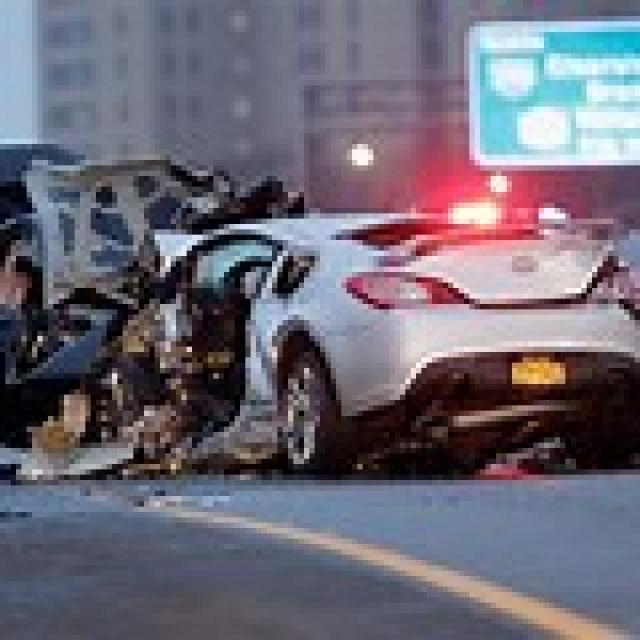multiple_accident: (0, 107, 640, 528)
